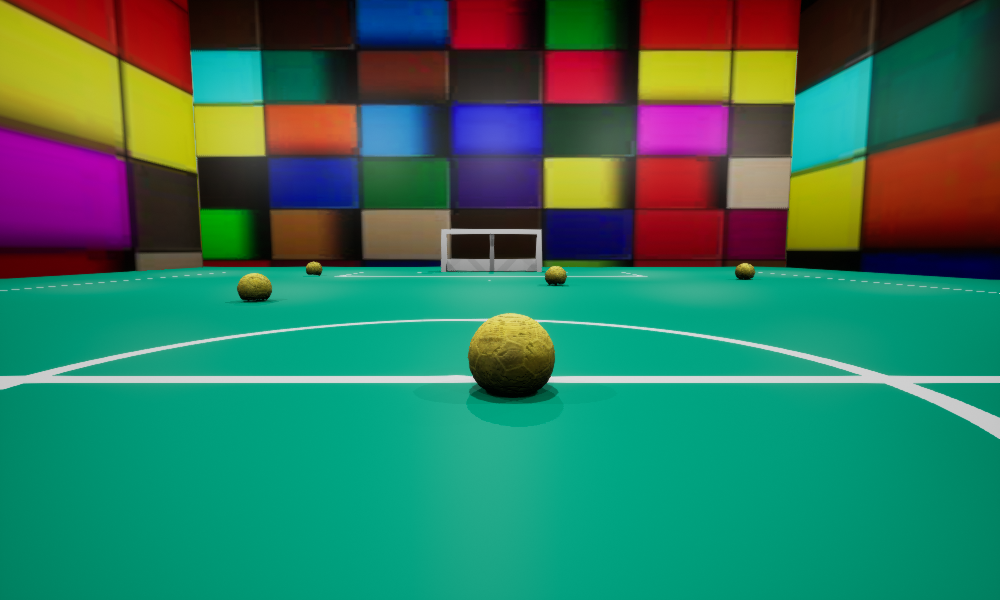b: (468, 313, 554, 396), (237, 273, 271, 301), (545, 266, 566, 284), (735, 263, 754, 279), (306, 261, 322, 275)
g: (441, 229, 541, 271)
